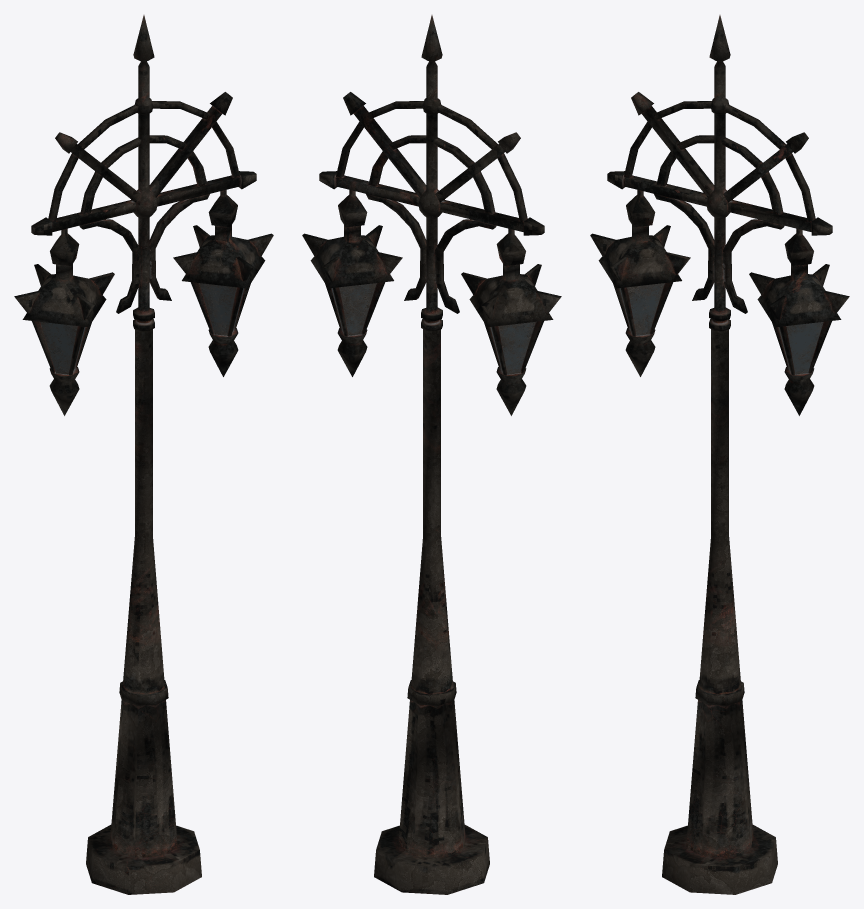
File: defect.glb
3 renders of one model, left to right at view 1: azimuth 30°, elevation 25°; view 2: azimuth 150°, elevation 25°; view 3: azimuth 330°, elevation 25°, orthographic.
Visible parts, largest first — view 1: Vic_Lan_Low; view 2: Vic_Lan_Low; view 3: Vic_Lan_Low.
Boxes of the visible parts, x1,y1,x2,y2 form: Vic_Lan_Low: [14, 15, 273, 894]; Vic_Lan_Low: [302, 15, 561, 894]; Vic_Lan_Low: [590, 15, 849, 894].
Bounding box in the file's own units: 1.38 × 4.4 × 0.5595.
Materials: 1 (1 with a texture image).
